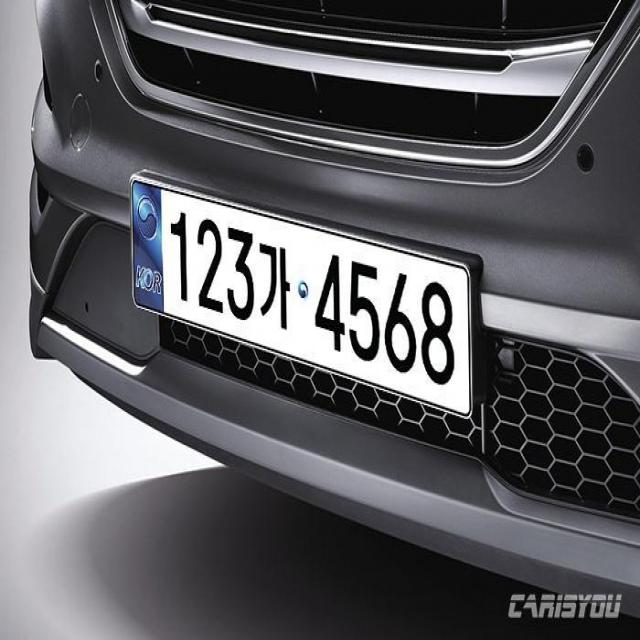illegal_plate: (128, 172, 480, 444)
